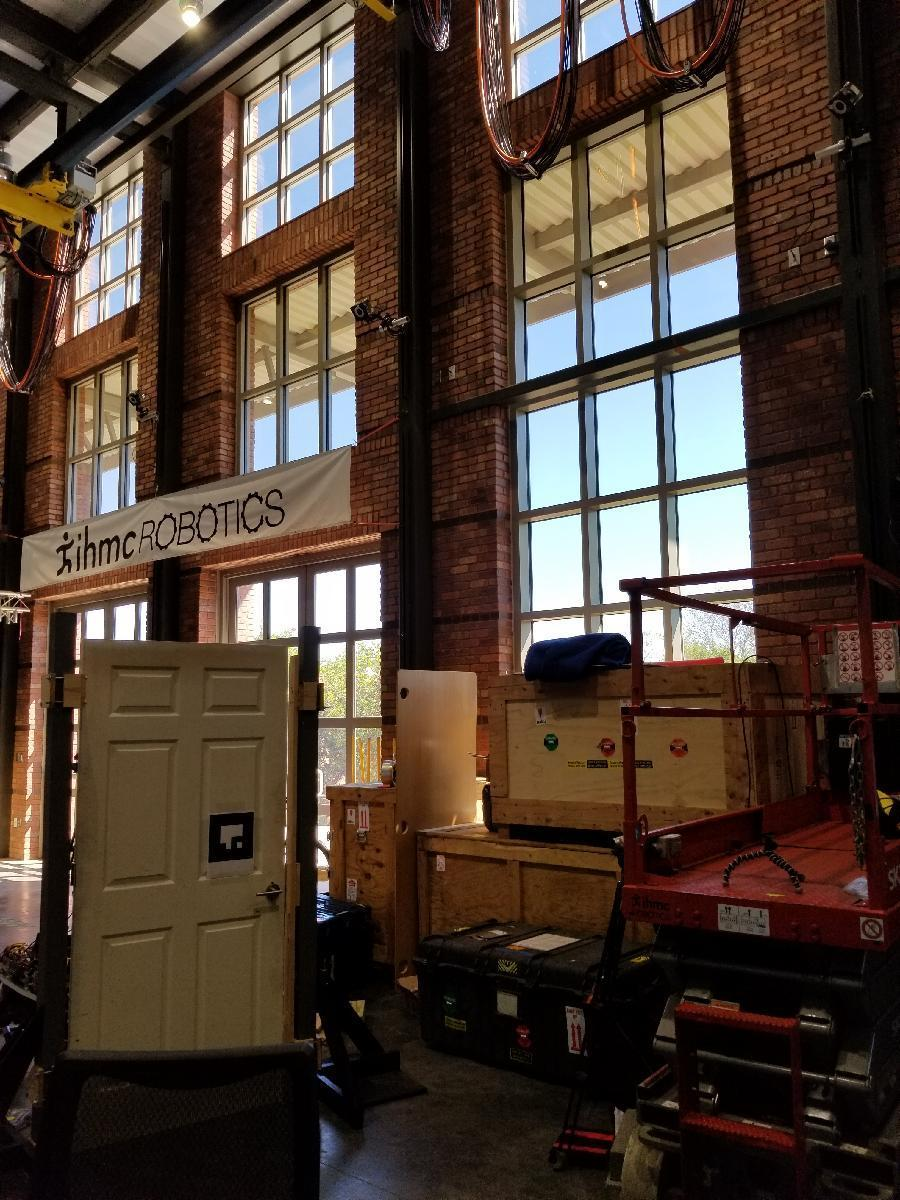door: (90, 636, 288, 1052)
handle: (249, 879, 290, 907)
